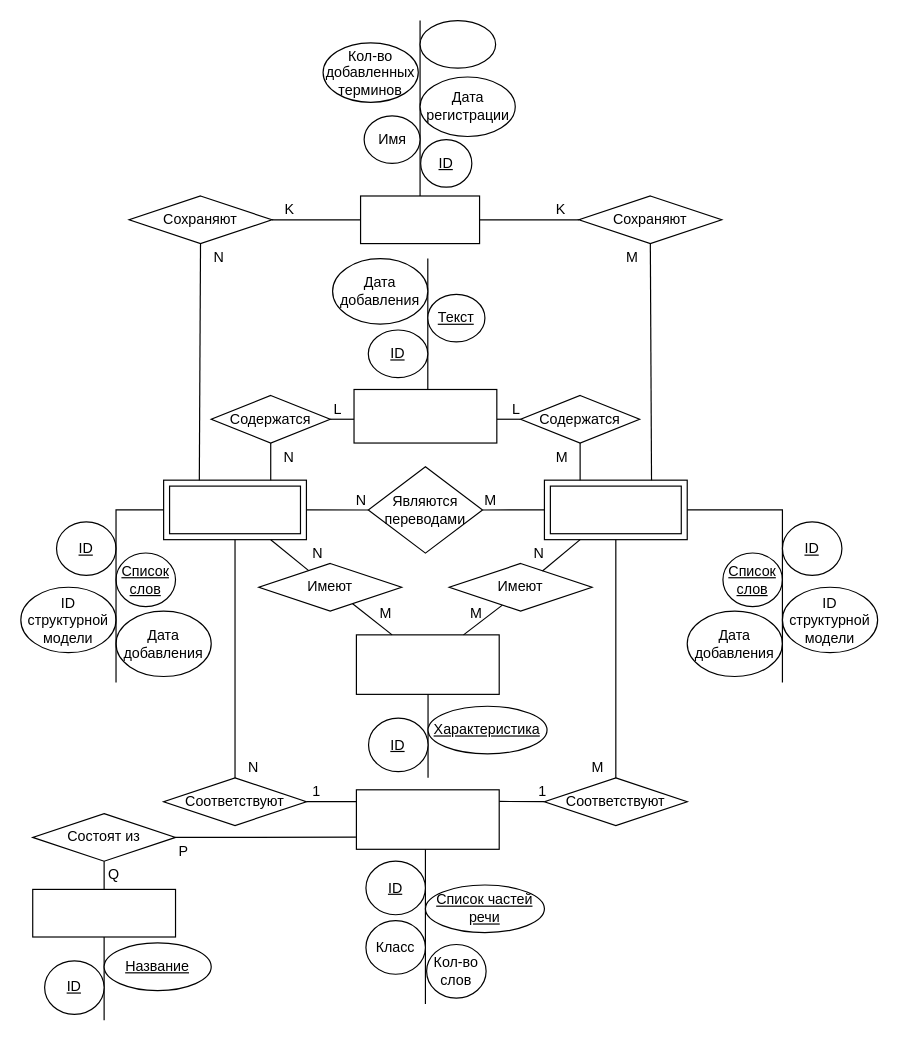
This 898x1042 diagram has some shape labels left out. The centre of each missing label's shape, as x and y in pixels:
"Англоязычные термины" belongs at (x=234, y=509).
"Контексты" belongs at (x=425, y=415).
"Пользователи" belongs at (x=419, y=219).
"Роль" belongs at (x=457, y=43).
"Русскоязычные термины" belongs at (x=615, y=509).
"Структурные модели терминов" belongs at (x=427, y=819).
"Характеристики терминов" belongs at (x=427, y=664).
"Части речи" belongs at (x=104, y=912).
